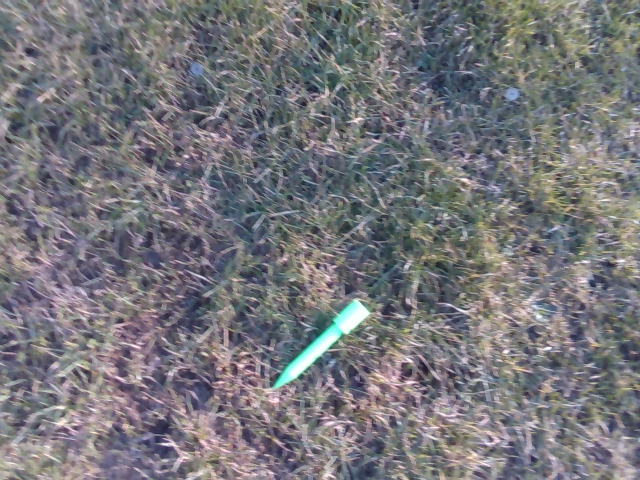Probe: (271, 296, 375, 393)
